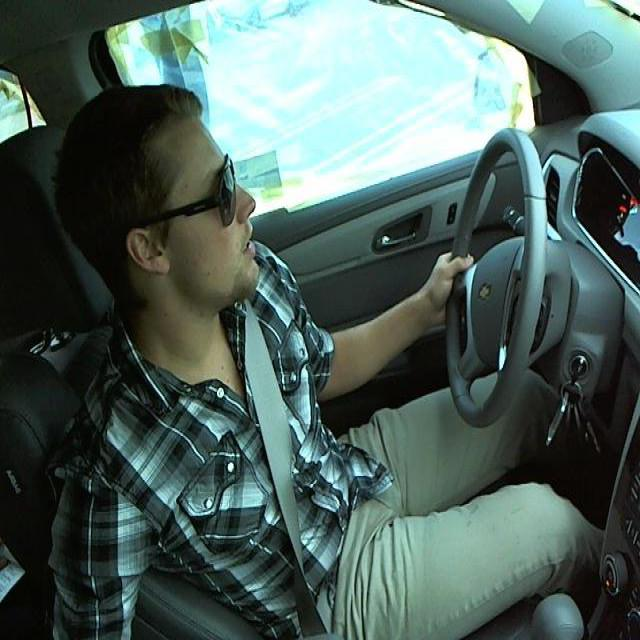seatbelt: (228, 312, 350, 635)
